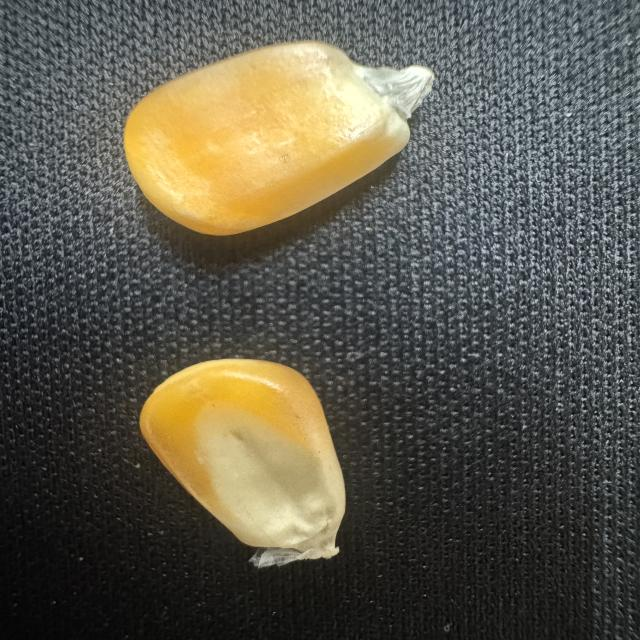Good-Seed: (114, 37, 445, 254), (132, 348, 370, 566)
